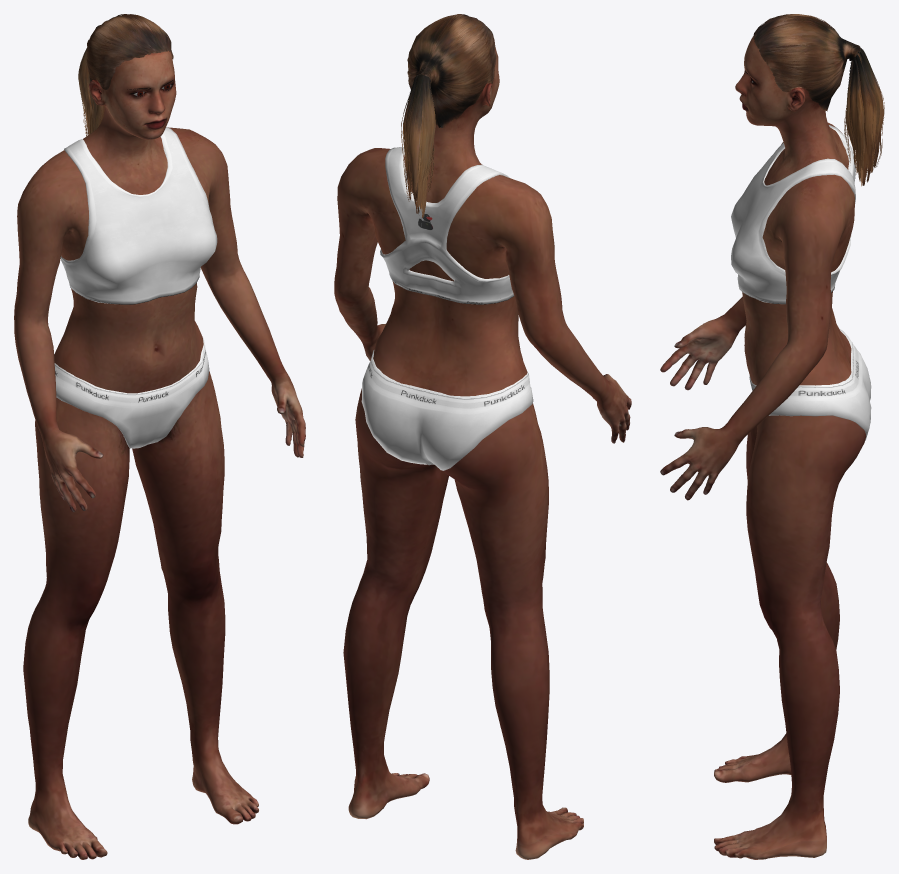
Rendered from body-female.glb.
3 renders of one model, left to right at view 1: azimuth 30°, elevation 25°; view 2: azimuth 150°, elevation 25°; view 3: azimuth 270°, elevation 25°, orthographic.
Parts seen in each view (by area): view 1: base.001, Human.punkduck_sport_bra_export, Human.punkduck_sport_briefs_export, Human.ponytail01_export; view 2: base.001, Human.punkduck_sport_briefs_export, Human.ponytail01_export, Human.punkduck_sport_bra_export; view 3: base.001, Human.ponytail01_export, Human.punkduck_sport_bra_export, Human.punkduck_sport_briefs_export.
Part boxes in pixels (<box>): base.001: <box>14,51,305,859</box>; Human.punkduck_sport_bra_export: <box>60,127,217,304</box>; Human.punkduck_sport_briefs_export: <box>54,337,209,448</box>; Human.ponytail01_export: <box>78,14,173,136</box>; base.001: <box>334,47,631,859</box>; Human.punkduck_sport_briefs_export: <box>361,350,533,470</box>; Human.ponytail01_export: <box>401,14,496,217</box>; Human.punkduck_sport_bra_export: <box>380,147,514,304</box>; base.001: <box>660,36,865,859</box>; Human.ponytail01_export: <box>753,14,884,186</box>; Human.punkduck_sport_bra_export: <box>731,125,855,304</box>; Human.punkduck_sport_briefs_export: <box>749,329,871,440</box>.
Size of the model in its own units: 0.5182 by 1.61 by 0.4099.
7 materials, 7 textured.
